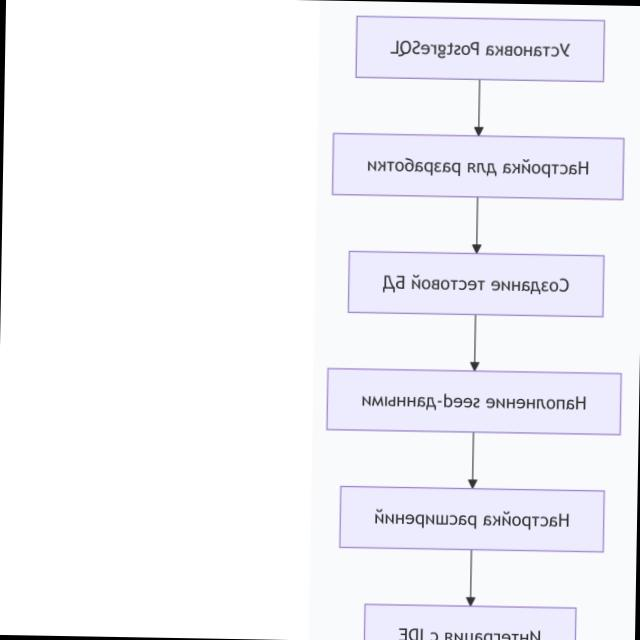arrow: (467, 315, 482, 371), (465, 433, 480, 489), (463, 550, 478, 606), (469, 198, 483, 253), (472, 81, 485, 135)
rectangle: (325, 366, 623, 436), (331, 132, 625, 200), (337, 483, 605, 553), (346, 249, 605, 318), (355, 14, 606, 82)
